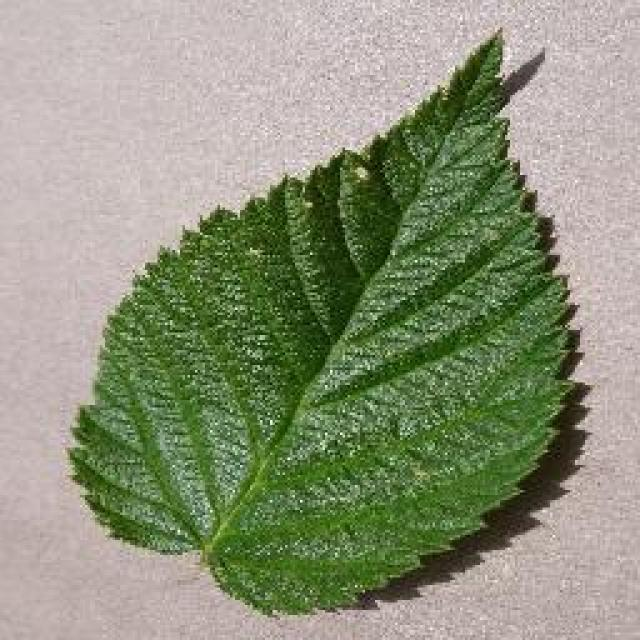Ras_healthy: (109, 115, 588, 592)
